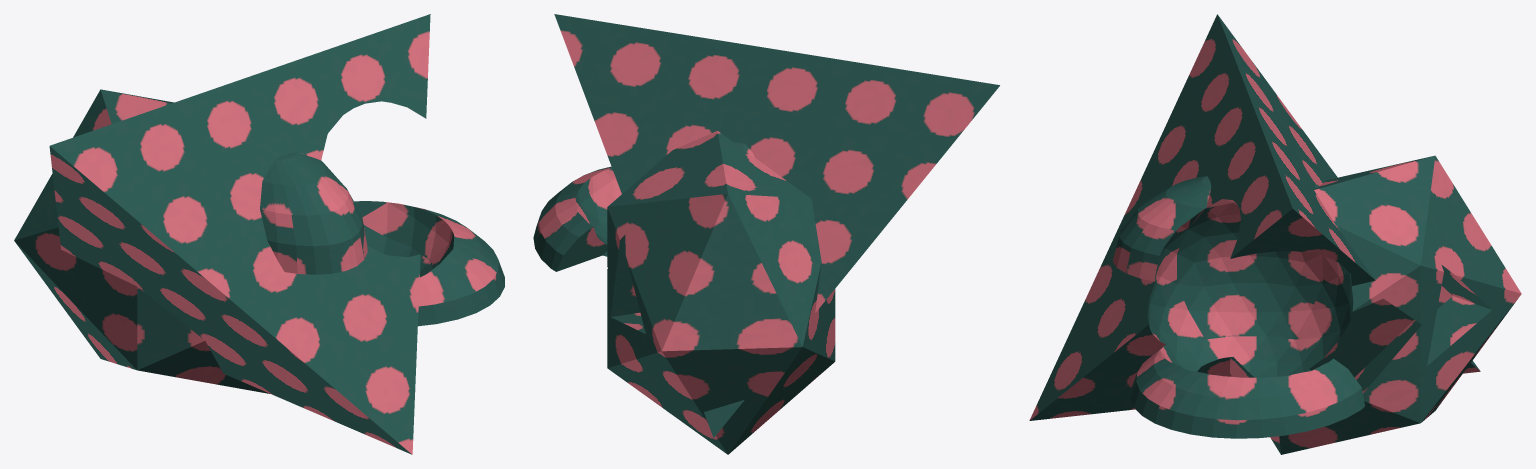
3 views of the same model, side by side, from view 1: azimuth 30°, elevation 25°; view 2: azimuth 150°, elevation 25°; view 3: azimuth 270°, elevation 25° (orthographic). The views are drawn at different scales.
Visible parts, largest first — view 1: geometry_0; view 2: geometry_0; view 3: geometry_0.
Part boxes in pixels (x1,y1,x2,y2): geometry_0: (14,14,504,454); geometry_0: (533,14,999,454); geometry_0: (1029,14,1521,454).
Size of the model in its own units: 2.21 by 1.58 by 2.2.
1 material, 1 textured.
